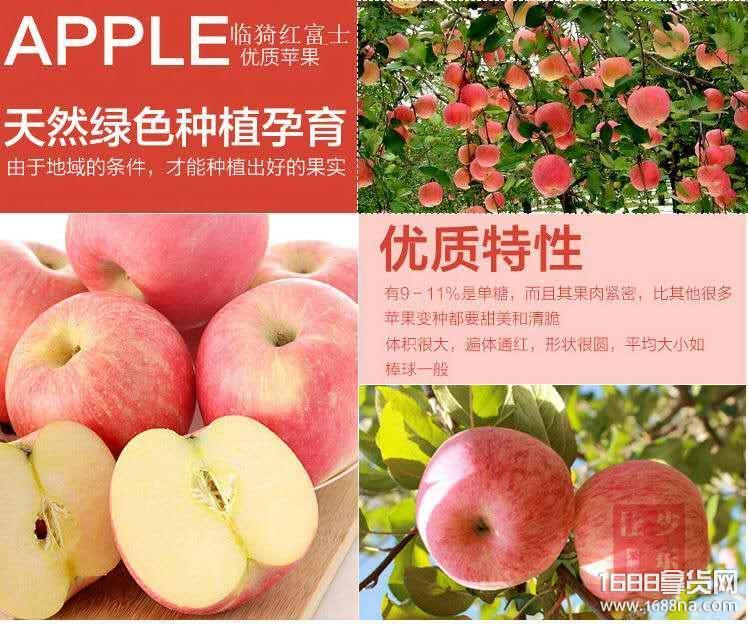apple: (196, 275, 358, 487), (8, 292, 197, 445), (412, 424, 572, 591), (66, 212, 272, 324), (574, 456, 711, 601)
